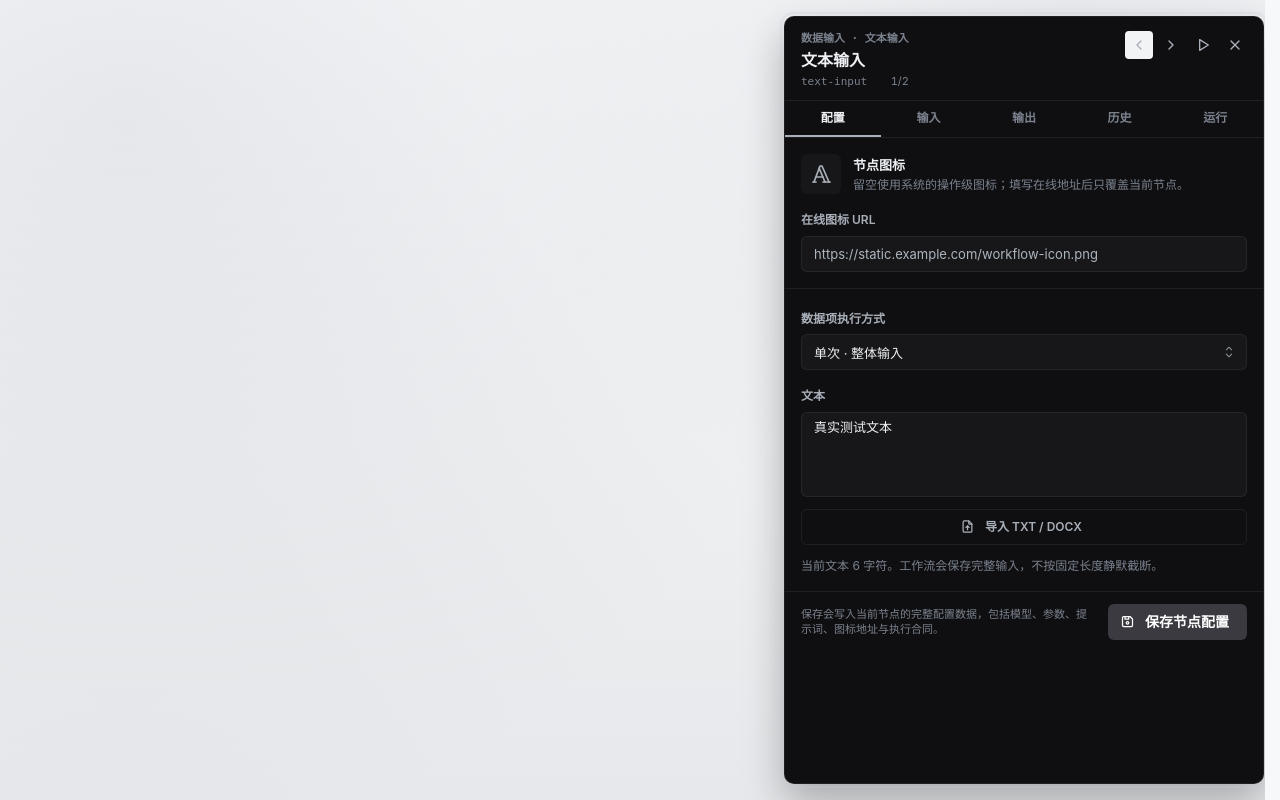
Test: WorkflowNodeInspectorPanel › navigates between workflow nodes in canvas order and keeps visual selection synchronized
expect the button named "上一个工作流节点" is disabled: met, box x1=1125 y1=31 x2=1153 y2=59
Click the button named "下一个工作流节点".
click(1171, 45)  # box x1=1157 y1=31 x2=1185 y2=59
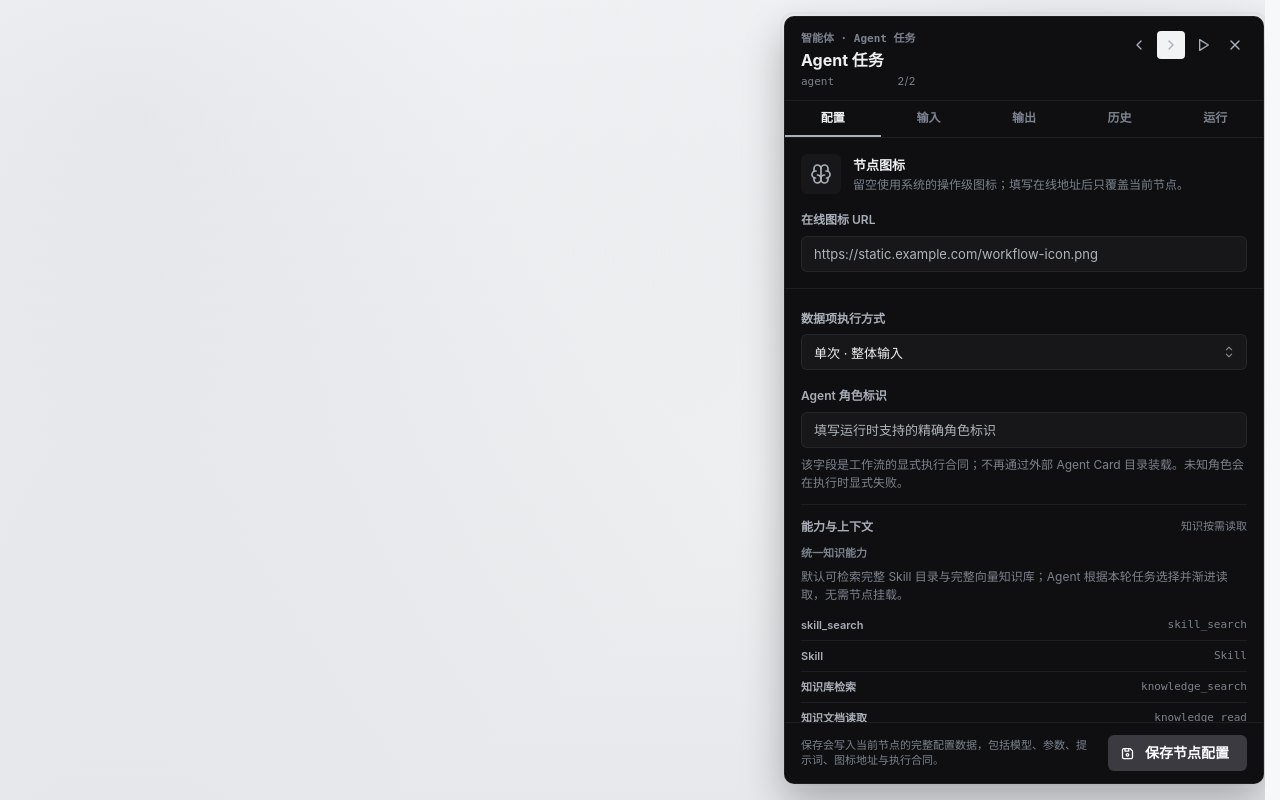
expect the element "Agent 任务" is shown: met, box x1=784 y1=16 x2=1264 y2=784
